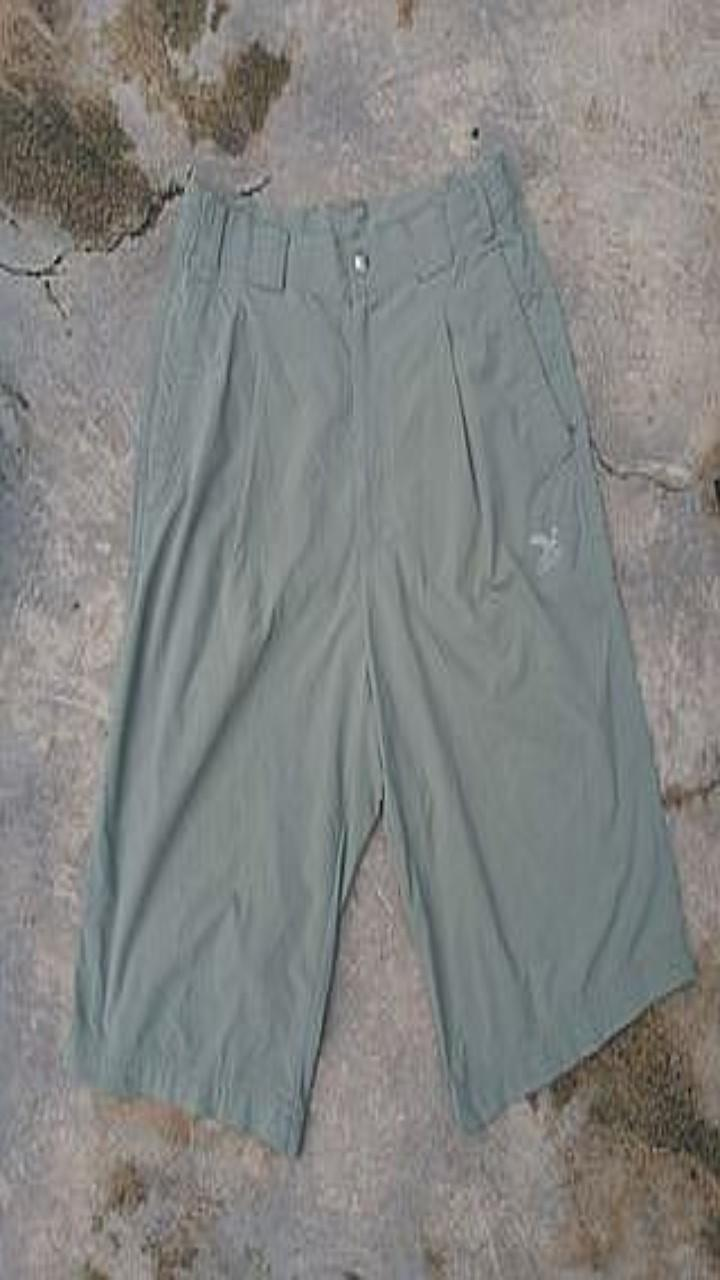Shorts: (64, 144, 695, 1153)
